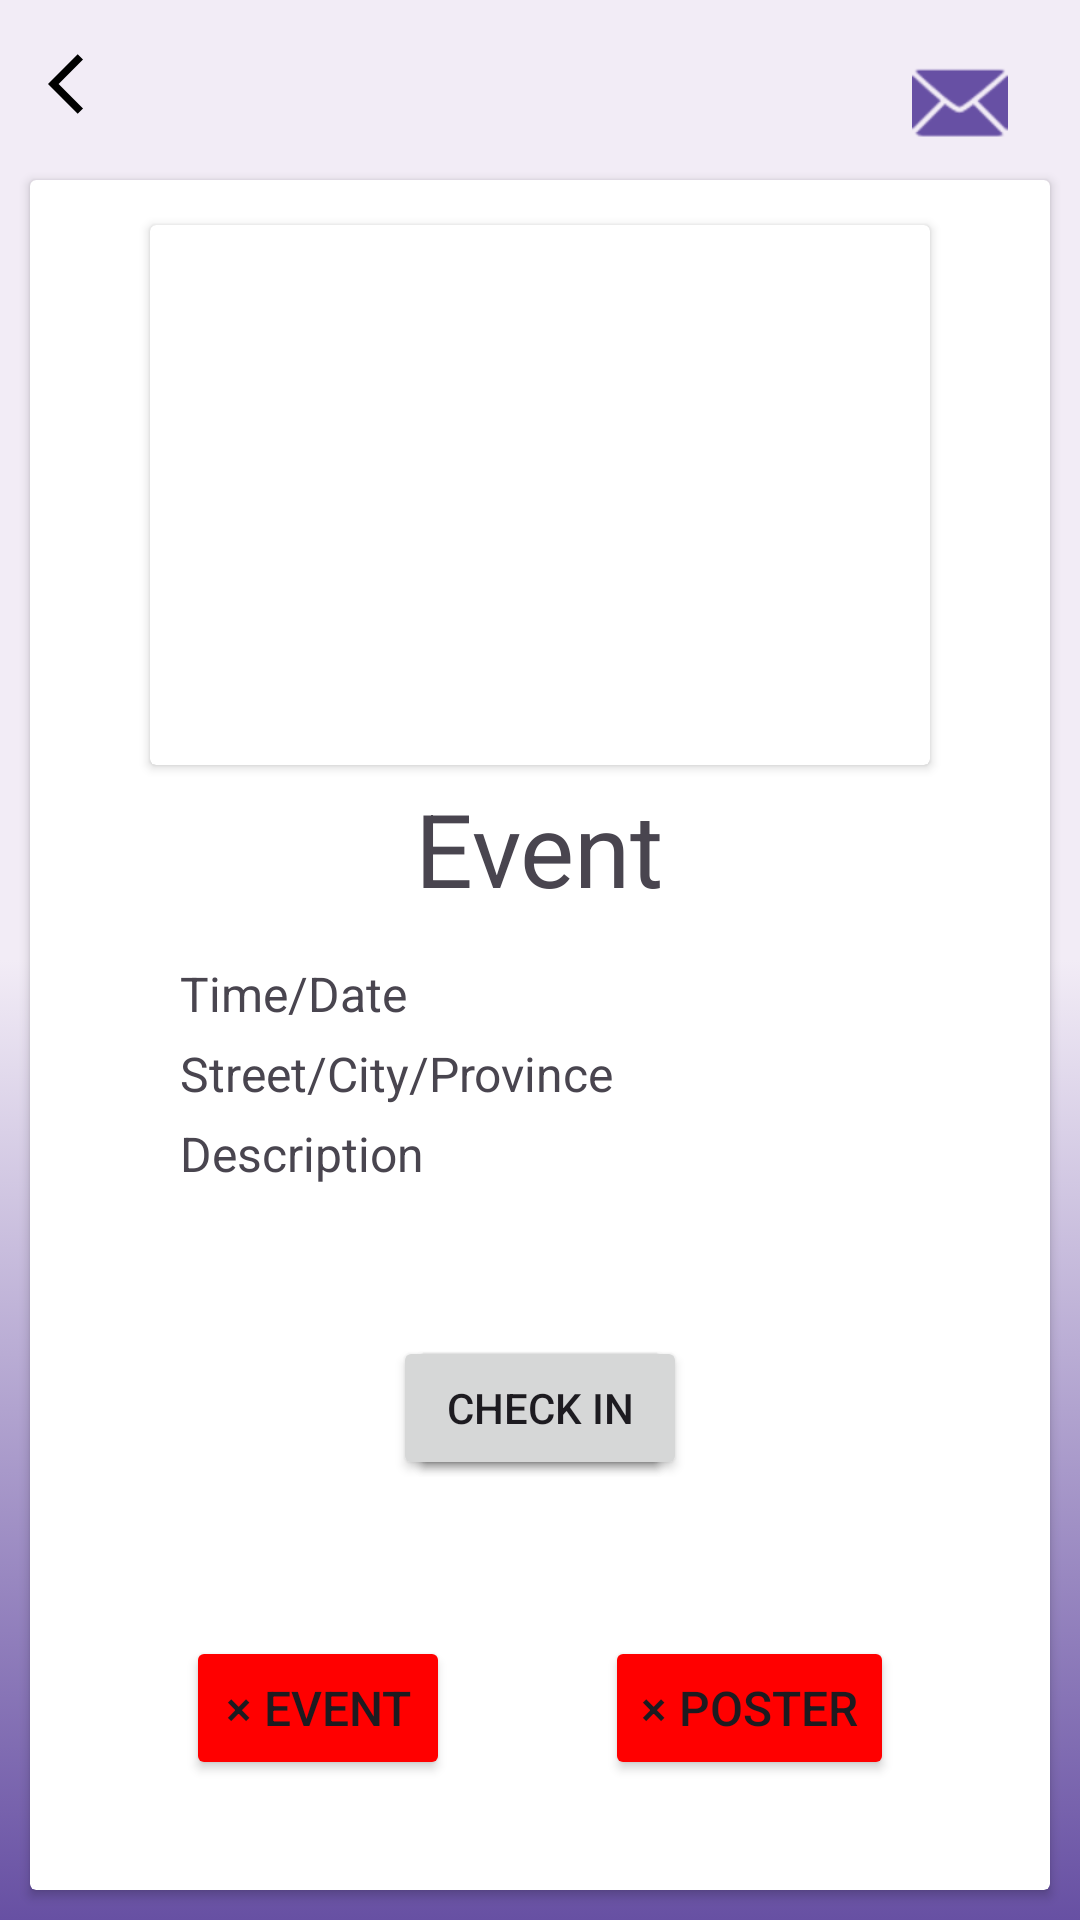

Where icons sit on this 1080 × 1920 app screen, as (x1, y1, x2, y2):
back arrow: (48, 54, 83, 114)
email: (912, 69, 1008, 137)
